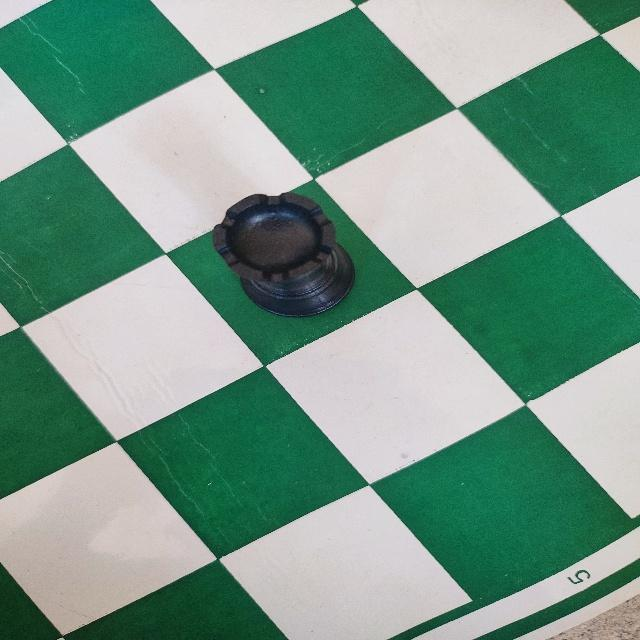Rook: (210, 189, 366, 321)
